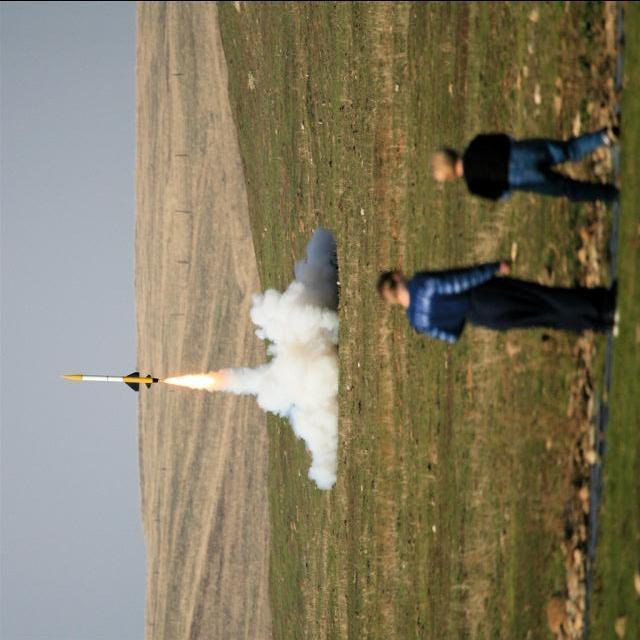missile: (68, 363, 162, 393)
